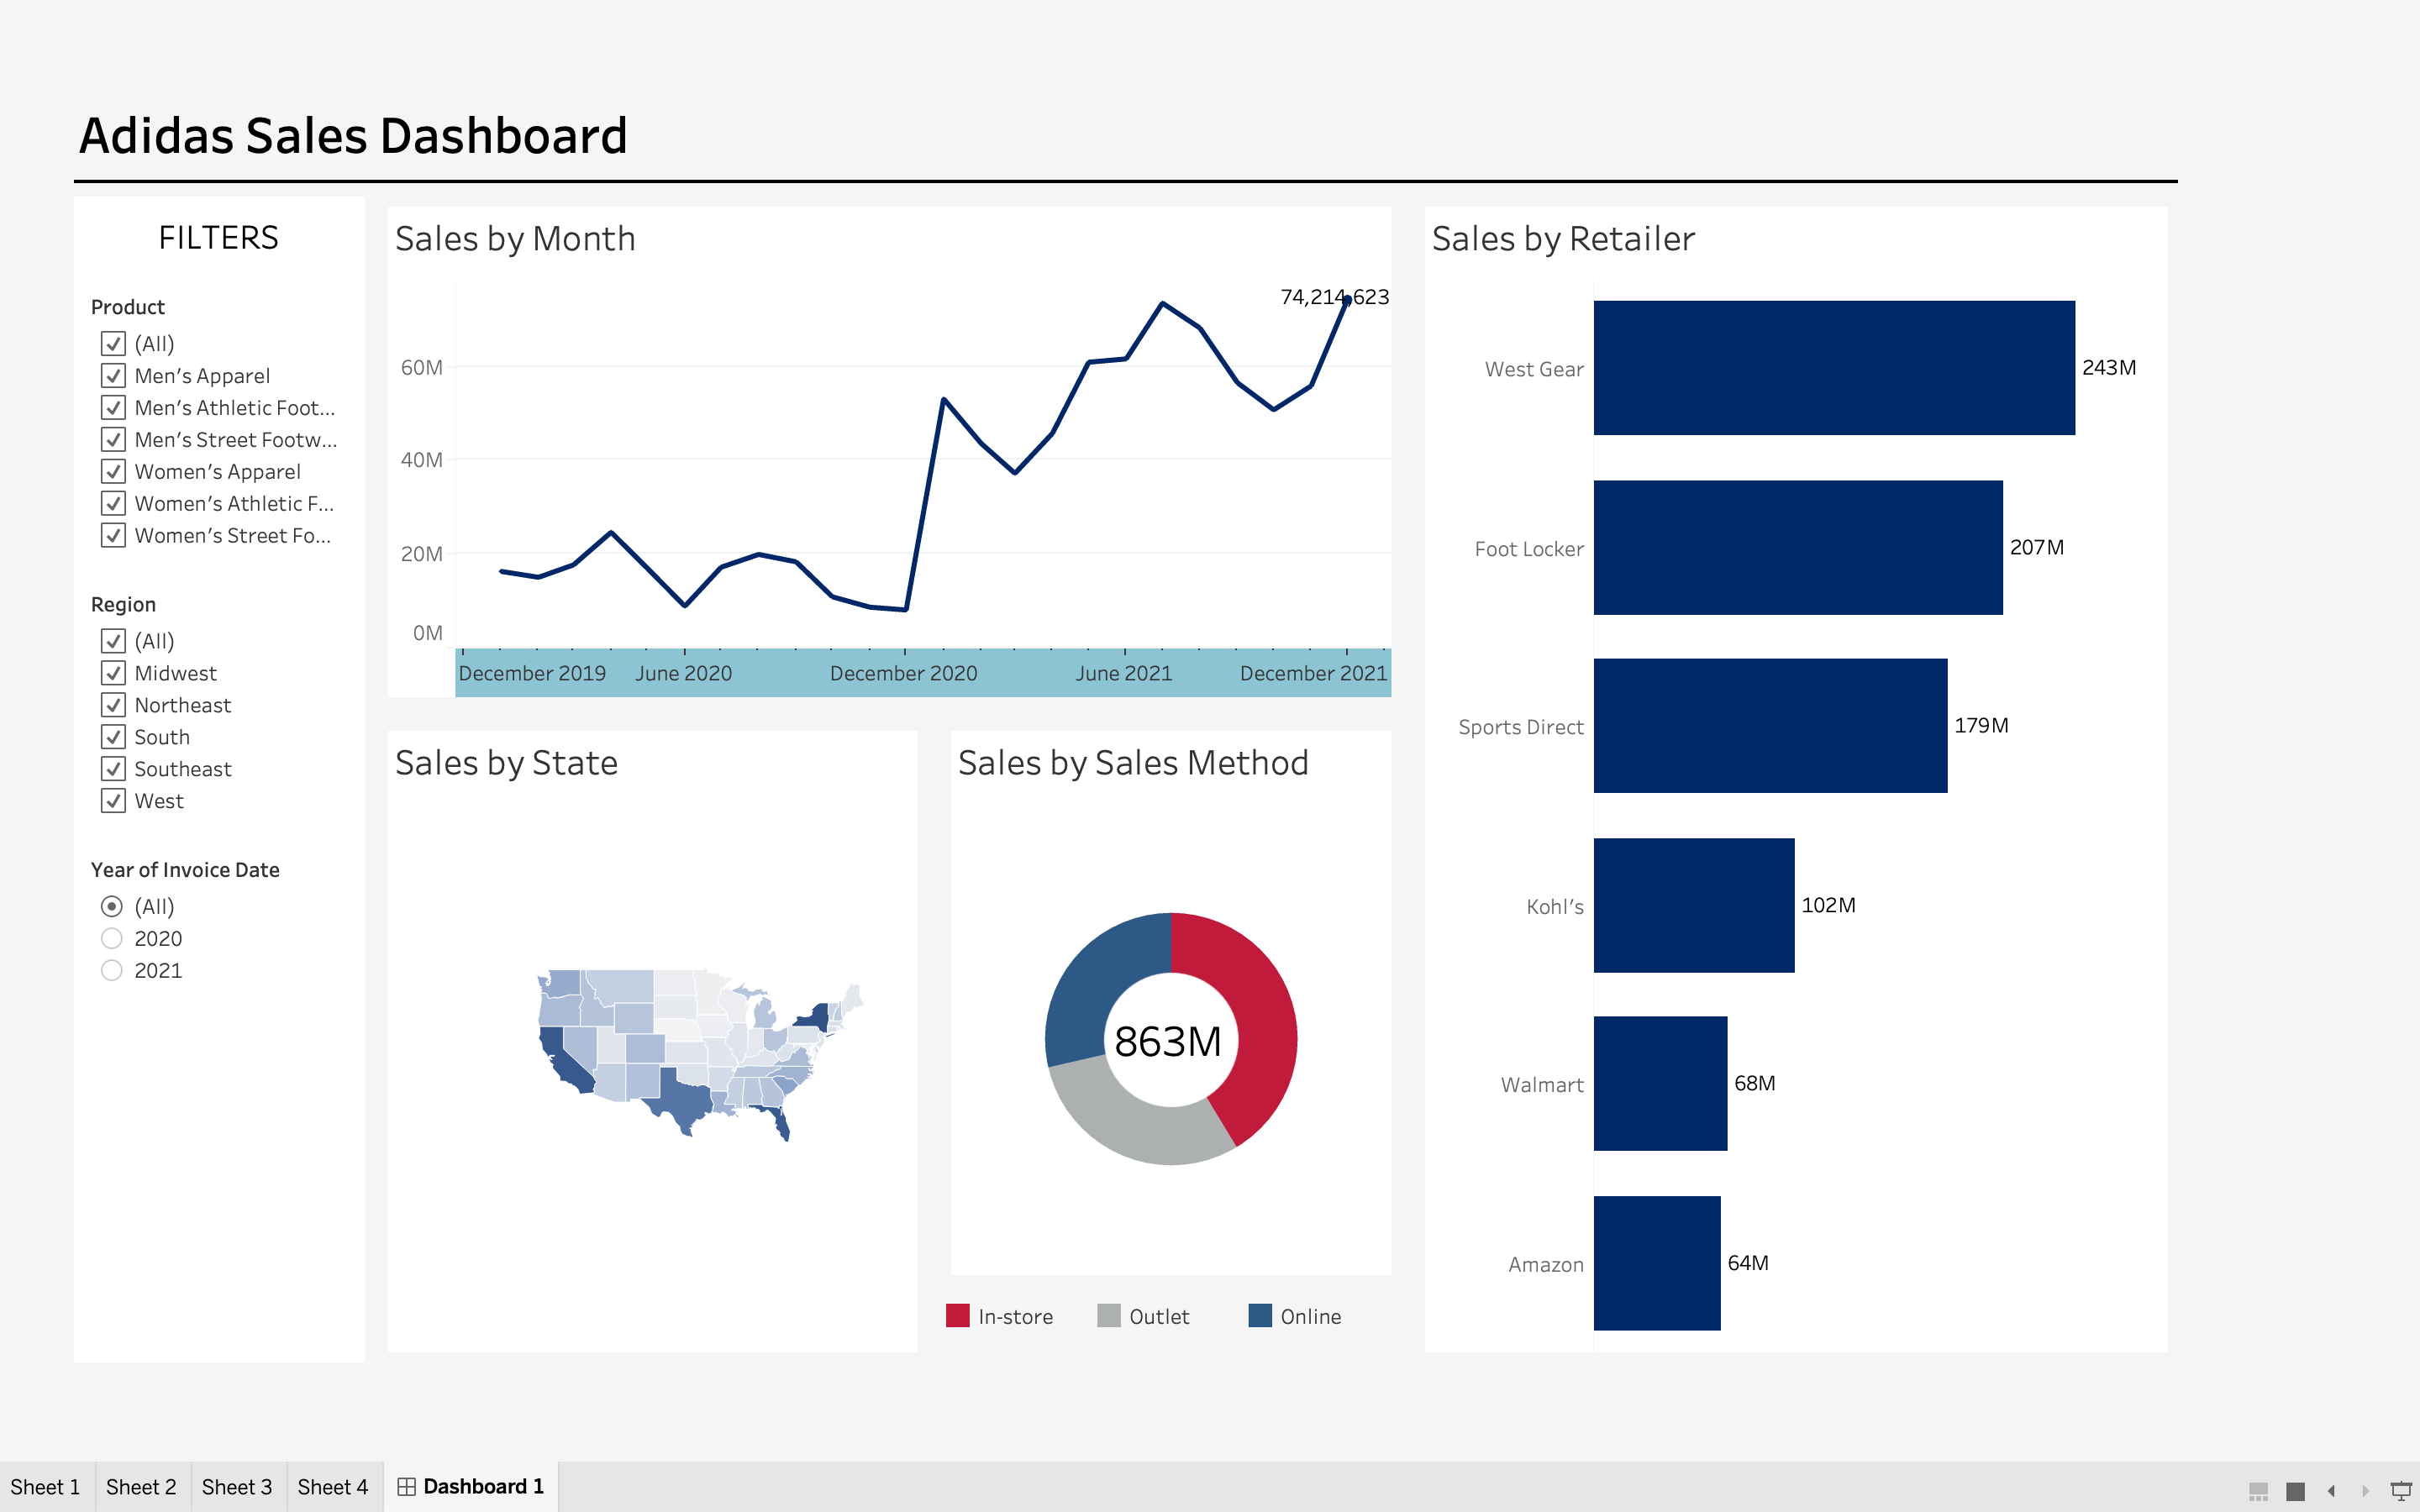

What the dashboard file says about the page in this screenshot:
{"tool":"tableau","page":{"name":"Dashboard 1","canvas":[1400,800],"ordinal":0},"visuals":[{"type":"text","box":[20,20,1260,48]},{"type":"blank","box":[20,68,1260,10]},{"type":"worksheet","title":"Sheet 1","mark":"Automatic","rows":["Total Sales"],"cols":["Invoice Date"],"box":[201,78,617,312]},{"type":"worksheet","title":"Sheet 3","mark":"Automatic","rows":["Retailer"],"cols":["Total Sales"],"box":[818,78,462,702]},{"type":"text","box":[24,82,173,47]},{"type":"filter","title":"Sheet 4","param":"[federated.1t6lgp315rnwbr198kt4t0h4rw6v].[none:Product:nk]","box":[24,129,173,177]},{"type":"filter","title":"Sheet 4","param":"[federated.1t6lgp315rnwbr198kt4t0h4rw6v].[none:Region:nk]","box":[24,306,173,158]},{"type":"worksheet","title":"Sheet 2","mark":"Automatic","box":[201,390,335,390]},{"type":"worksheet","title":"Sheet 4","mark":"Pie","cols":["Calculation_2711096640030044161","Calculation_2711096640031703043"],"box":[536,390,282,344]},{"type":"filter","title":"Sheet 4","param":"[federated.1t6lgp315rnwbr198kt4t0h4rw6v].[yr:Invoice Date:ok]","box":[24,464,173,101]},{"type":"legend","title":"Sheet 4","param":"[federated.1t6lgp315rnwbr198kt4t0h4rw6v].[none:Sales Method:nk]","box":[536,734,282,38]}]}

Visuals, with their boxes on the page's 1400x800 design canvas (x1, y1, x2, y2). These are canvas units, not pixel positions in the 2420x1512 screenshot, which may show the page scaled, cropped or inside an application window:
text: bbox(20, 20, 1280, 68)
blank: bbox(20, 68, 1280, 78)
"Sheet 1" worksheet: bbox(201, 78, 818, 390)
"Sheet 3" worksheet: bbox(818, 78, 1280, 780)
text: bbox(24, 82, 197, 129)
"Sheet 4" filter: bbox(24, 129, 197, 306)
"Sheet 4" filter: bbox(24, 306, 197, 464)
"Sheet 2" worksheet: bbox(201, 390, 536, 780)
"Sheet 4" worksheet (Pie marks): bbox(536, 390, 818, 734)
"Sheet 4" filter: bbox(24, 464, 197, 565)
"Sheet 4" legend: bbox(536, 734, 818, 772)
